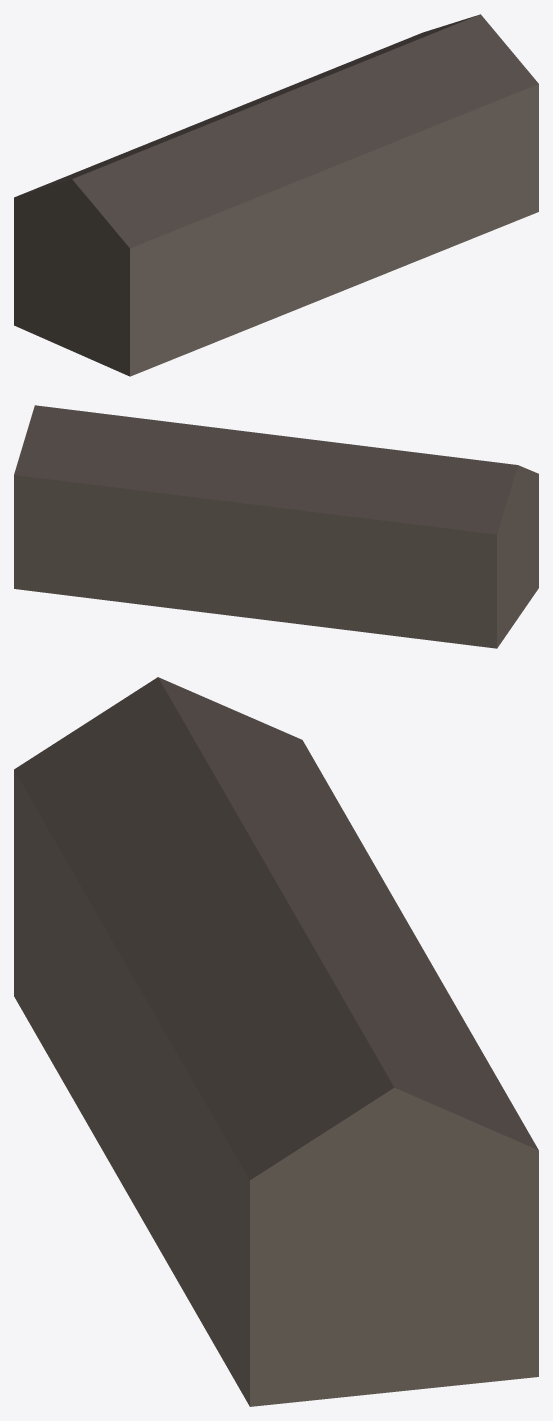
The picture shows the model from 3 angles, top to bottom: view 1: azimuth 30°, elevation 25°; view 2: azimuth 150°, elevation 25°; view 3: azimuth 270°, elevation 25°; orthographic projection. The views are drawn at different scales.
Visible parts, largest first — view 1: HP-w1202493224; view 2: HP-w1202493224; view 3: HP-w1202493224.
Part boxes in pixels (x1,y1,x2,y2): HP-w1202493224: (14,14,538,376); HP-w1202493224: (14,405,538,648); HP-w1202493224: (14,677,538,1406).
Bounding box in the file's own units: 25.03 × 8.06 × 12.61.
